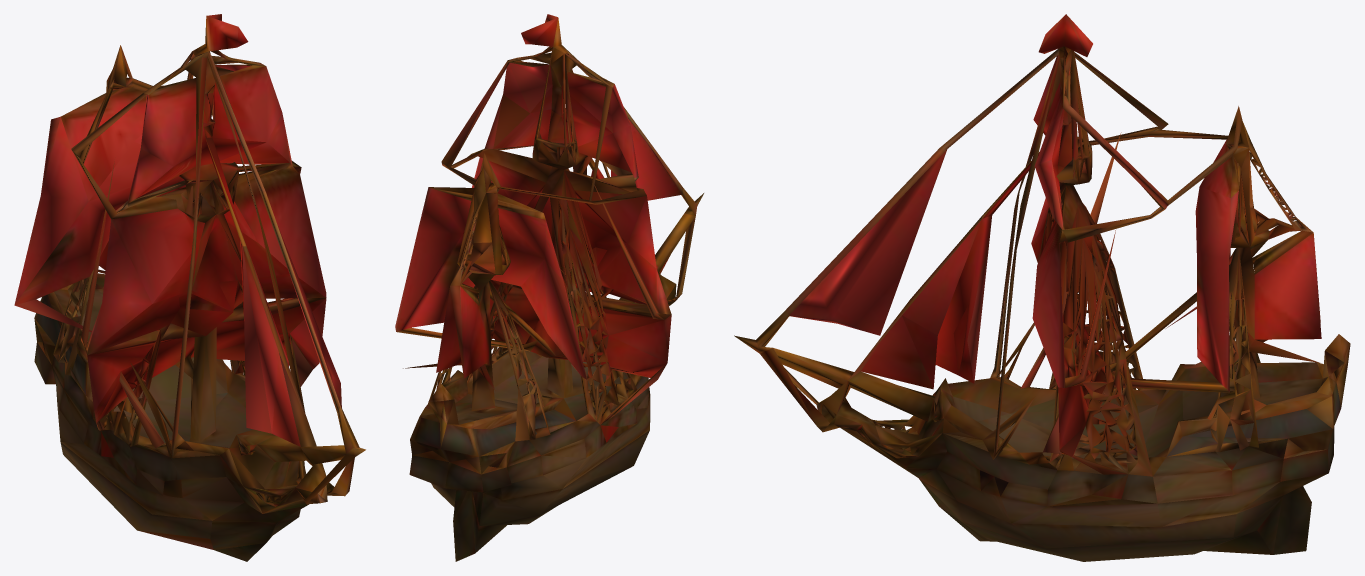
The model's file is enemy_sloop.glb.
3 views of the same model, side by side, from view 1: azimuth 30°, elevation 25°; view 2: azimuth 150°, elevation 25°; view 3: azimuth 270°, elevation 25° (orthographic). The views are drawn at different scales.
Parts seen in each view (by area): view 1: ship; view 2: ship; view 3: ship.
Part boxes in pixels (left/top/right/bottom): ship: left=14, top=14, right=365, bottom=561; ship: left=395, top=14, right=703, bottom=561; ship: left=734, top=14, right=1350, bottom=561.
Bounding box in the file's own units: 3.26 × 6.75 × 7.
Materials: 1 (1 with a texture image).
